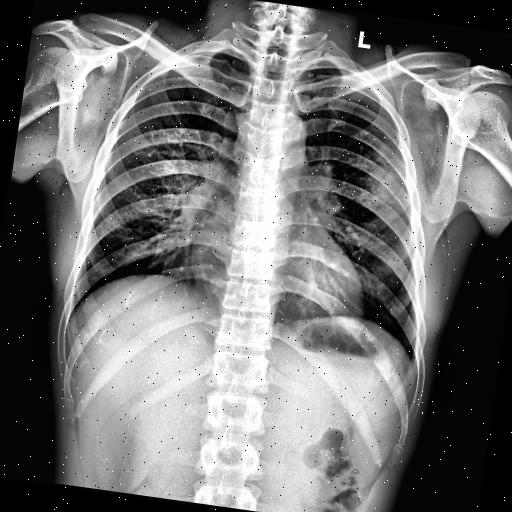6- Infiltration: (353, 130, 418, 213), (362, 134, 418, 208)
7- Lung Opacity: (353, 130, 418, 213), (354, 138, 410, 218)
